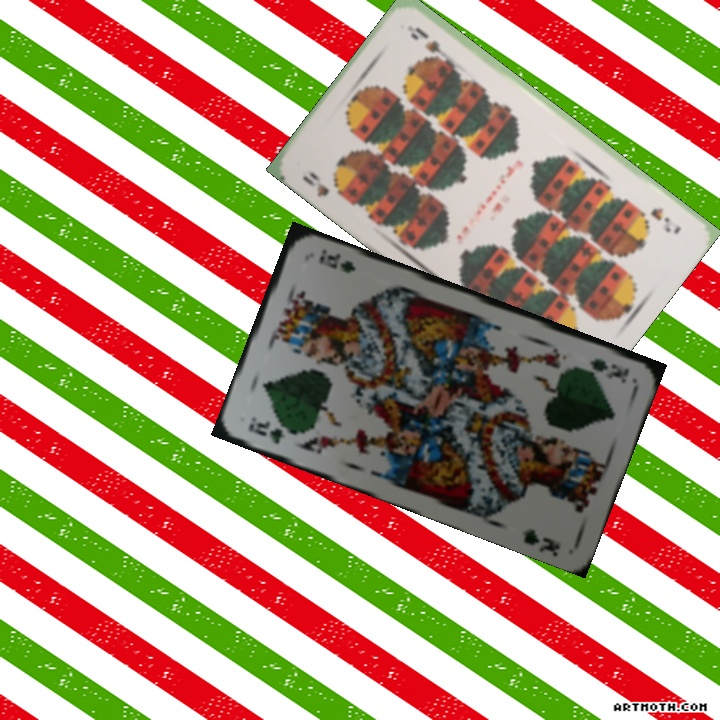GK: (244, 413, 289, 447), (585, 354, 632, 385)
S9: (298, 167, 349, 202), (646, 203, 684, 237)
